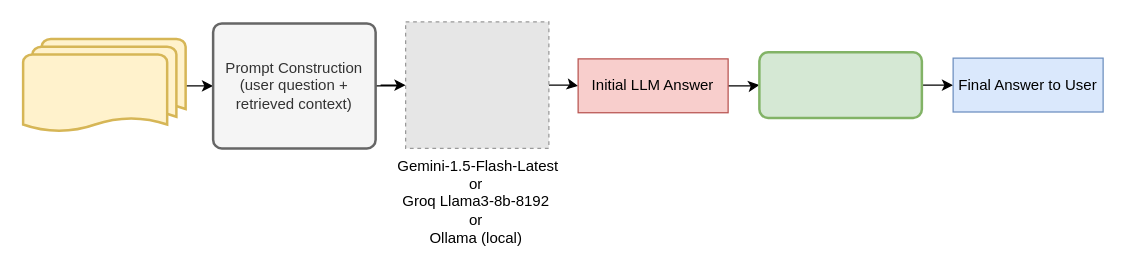
Image size: 1125x280. Some labels were removed from this diagram. Grey dashed boxes stand in for pictures. The shapes that lost their labels are listed below. From the top down, each one's centre as x and y in pixels, then its label:
[103,85]: Top K Retrieved Chunks
[840,84]: Answer Polishing/Post-processing
